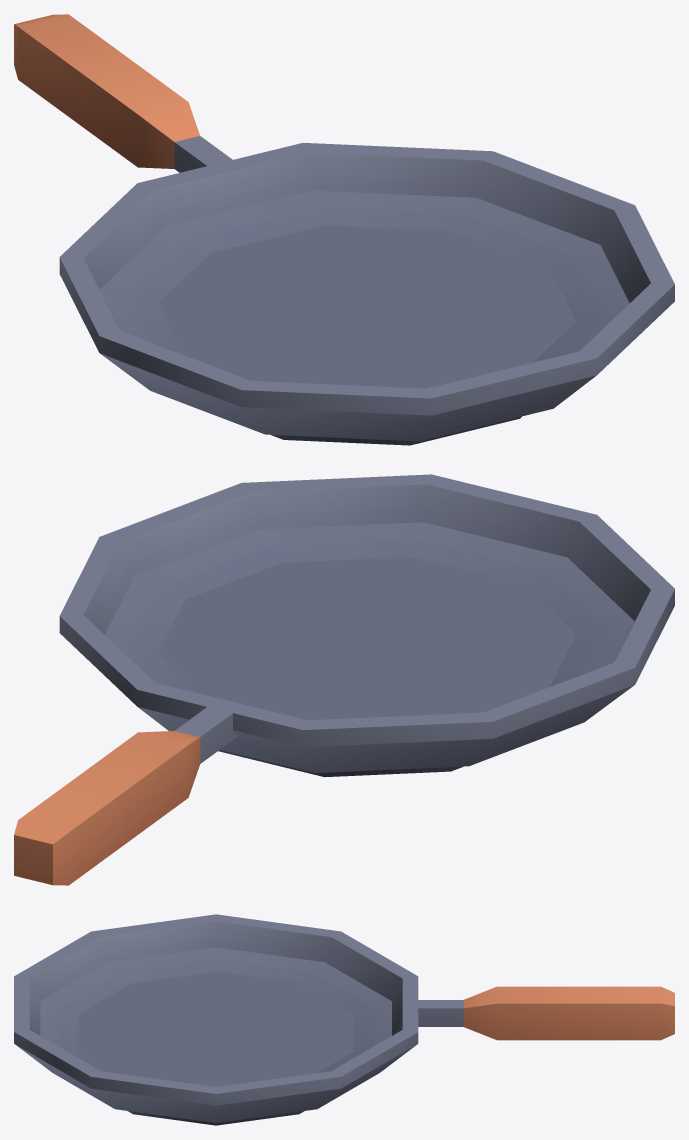
Rendered from frying_pan.glb.
3 renders of one model, top to bottom at view 1: azimuth 30°, elevation 25°; view 2: azimuth 150°, elevation 25°; view 3: azimuth 270°, elevation 25°, orthographic. The views are drawn at different scales.
Visible parts, largest first — view 1: frying-pan; view 2: frying-pan; view 3: frying-pan.
Boxes of the visible parts, x1=… form: frying-pan: x1=14, y1=14, x2=674, y2=445; frying-pan: x1=14, y1=474, x2=674, y2=885; frying-pan: x1=14, y1=914, x2=674, y2=1125.
Size of the model in its own units: 0.6574 by 0.1206 by 1.02.
Materials: 1 (1 with a texture image).
